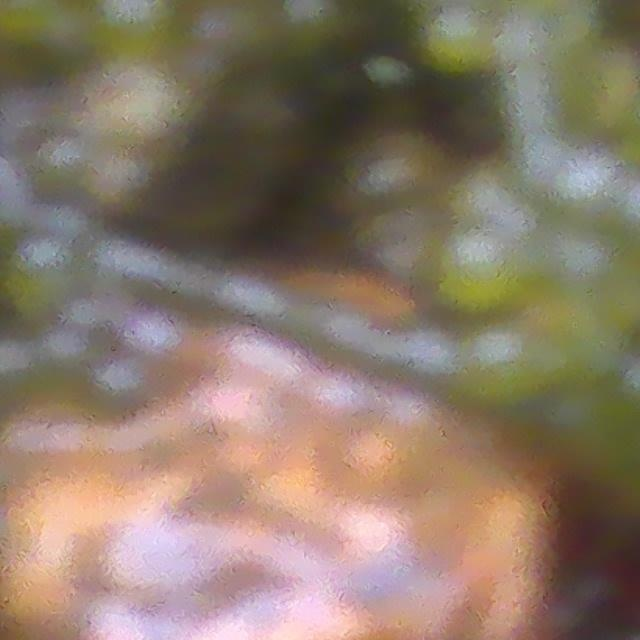SeaGrape: (424, 5, 497, 75)
